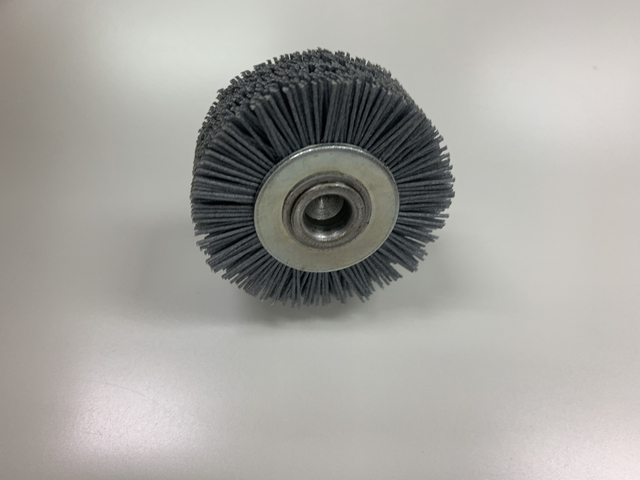Wheel Brush: (191, 47, 457, 309), (187, 34, 437, 305)
